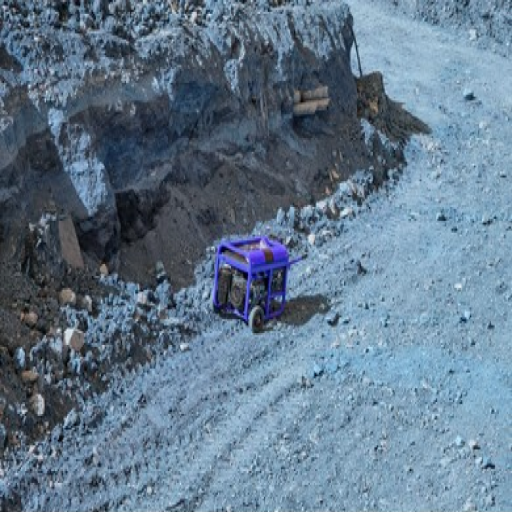portable_generator: (215, 237, 290, 322)
